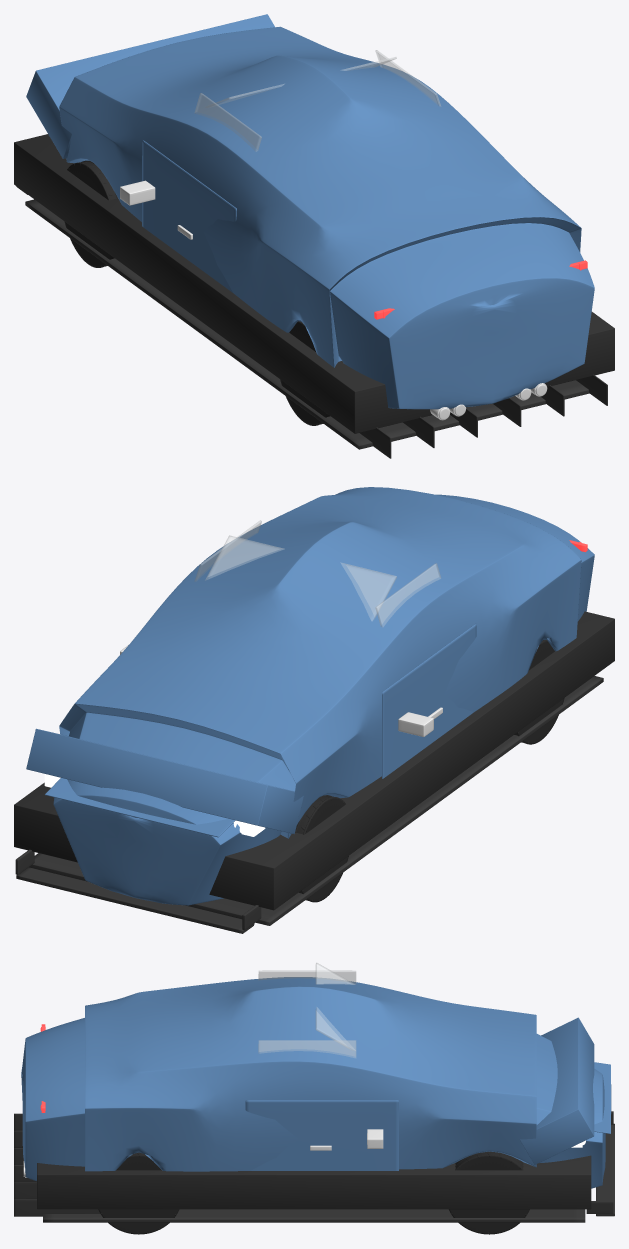
File: vehicle.glb
3 views of the same model, one above another, from view 1: azimuth 30°, elevation 25°; view 2: azimuth 150°, elevation 25°; view 3: azimuth 270°, elevation 25° (orthographic). The views are drawn at different scales.
Parts seen in each view (by area): view 1: BODY_MainShell, BODY_Espace_GreyBumpers, UNDERBODY_FlatFloor, BODY_Door_FL, BODY_Espace_RakedNose, GLASS_Greenhouse, WHEEL_FL_Tire, JEWELRY_Hardware, WHEEL_RL_Tire; view 2: BODY_MainShell, BODY_Espace_GreyBumpers, BODY_Espace_RakedNose, BODY_Door_FL, UNDERBODY_FlatFloor, GLASS_Greenhouse, AERO_FrontSplitter, BODY_Hood, WHEEL_FL_Tire, WHEEL_RL_Tire, JEWELRY_Hardware; view 3: BODY_MainShell, BODY_Espace_GreyBumpers, BODY_Door_FR, UNDERBODY_FlatFloor, BODY_Espace_RakedNose, GLASS_Greenhouse, WHEEL_FR_Tire, WHEEL_RR_Tire, AERO_FrontSplitter, BODY_Hood, JEWELRY_Hardware.
Part boxes in pixels (bbox=[...]): BODY_MainShell: bbox=[59, 26, 594, 409]; BODY_Espace_GreyBumpers: bbox=[14, 134, 614, 433]; UNDERBODY_FlatFloor: bbox=[25, 199, 607, 458]; BODY_Door_FL: bbox=[142, 140, 236, 292]; BODY_Espace_RakedNose: bbox=[26, 14, 274, 158]; GLASS_Greenhouse: bbox=[194, 50, 440, 151]; WHEEL_FL_Tire: bbox=[64, 160, 117, 267]; JEWELRY_Hardware: bbox=[120, 180, 547, 420]; WHEEL_RL_Tire: bbox=[280, 321, 330, 425]; BODY_MainShell: bbox=[53, 487, 594, 905]; BODY_Espace_GreyBumpers: bbox=[14, 611, 614, 910]; BODY_Espace_RakedNose: bbox=[26, 728, 303, 833]; BODY_Door_FL: bbox=[382, 623, 476, 778]; UNDERBODY_FlatFloor: bbox=[29, 676, 603, 925]; GLASS_Greenhouse: bbox=[194, 520, 440, 627]; AERO_FrontSplitter: bbox=[15, 849, 261, 933]; BODY_Hood: bbox=[45, 778, 235, 837]; WHEEL_FL_Tire: bbox=[295, 795, 348, 902]; WHEEL_RL_Tire: bbox=[514, 640, 564, 744]; JEWELRY_Hardware: bbox=[120, 645, 442, 736]; BODY_MainShell: bbox=[21, 977, 605, 1188]; BODY_Espace_GreyBumpers: bbox=[37, 1155, 591, 1209]; BODY_Door_FR: bbox=[245, 1100, 398, 1170]; UNDERBODY_FlatFloor: bbox=[14, 1113, 585, 1222]; BODY_Espace_RakedNose: bbox=[520, 1017, 594, 1164]; GLASS_Greenhouse: bbox=[258, 963, 356, 1057]; WHEEL_FR_Tire: bbox=[449, 1151, 529, 1234]; WHEEL_RR_Tire: bbox=[98, 1152, 179, 1234]; AERO_FrontSplitter: bbox=[586, 1111, 614, 1216]; BODY_Hood: bbox=[594, 1062, 611, 1133]; JEWELRY_Hardware: bbox=[23, 1129, 383, 1177].
Size of what is drawn, in the model's own units: 2.1 by 1.63 by 4.42.
